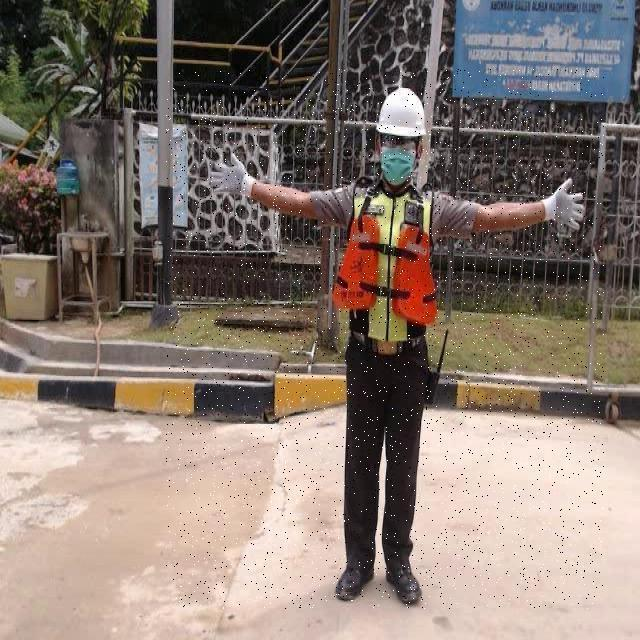gloves: (540, 177, 584, 229), (209, 152, 257, 198)
goggles: (379, 135, 420, 148)
helmet: (376, 87, 426, 138)
safety_vest: (333, 183, 438, 346)
